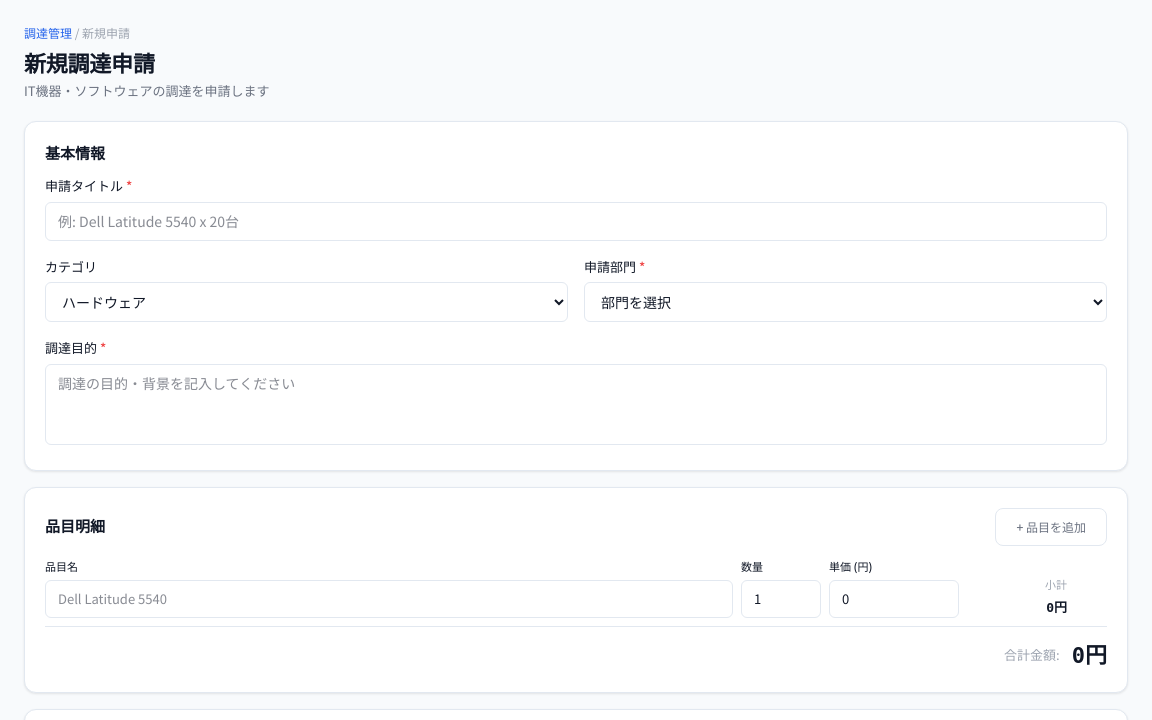
Test case: Procurement New page - form interactions › updates item quantity and shows subtotal
This screenshot has width=1152, height=720.
Note: quantity input (first number input)
Replace the text in the number field below "数量" with "5" at [781, 599], box [741, 580, 821, 618]
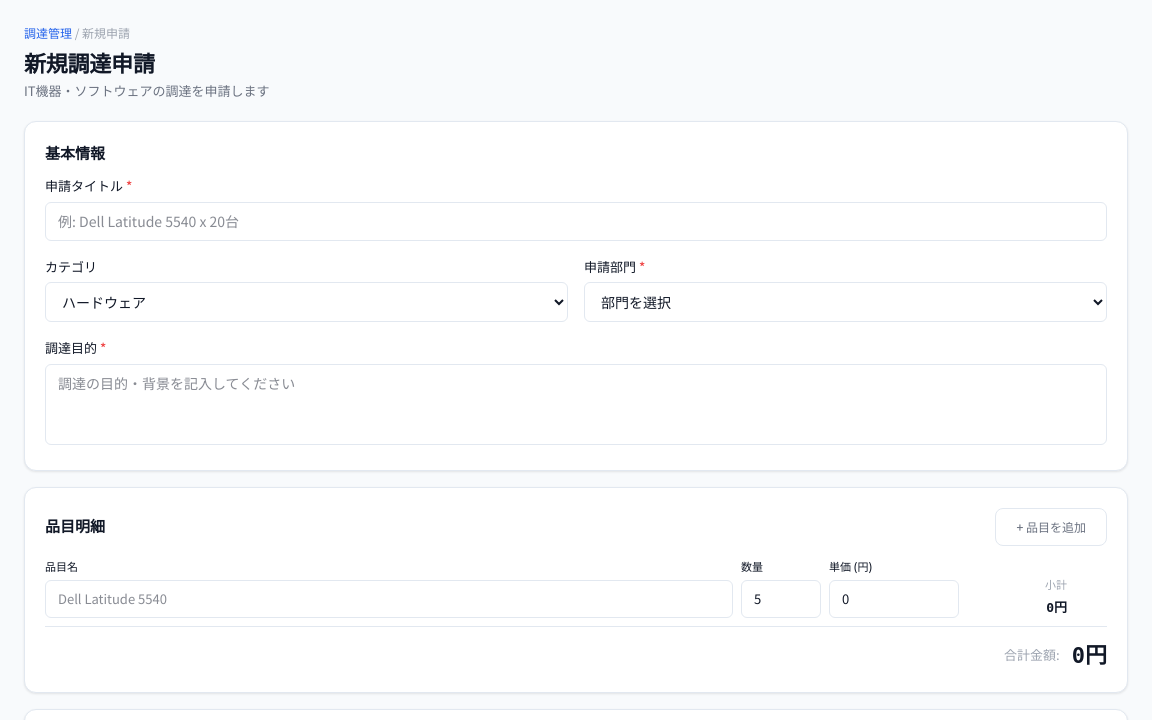
Note: unitPrice input (second number input)
Replace the text in the number field below "単価 (円)" with "10000" at [894, 599], box [829, 580, 959, 618]
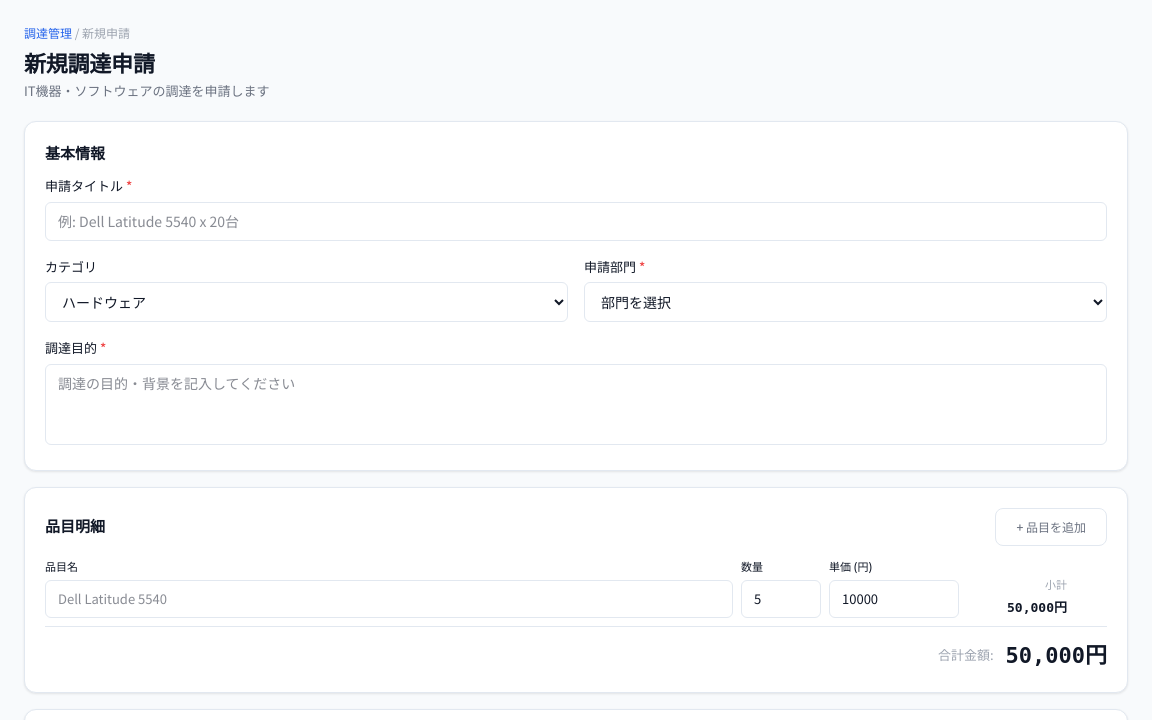
Check: the text "50,000" is shown, box [1007, 600, 1054, 615]
